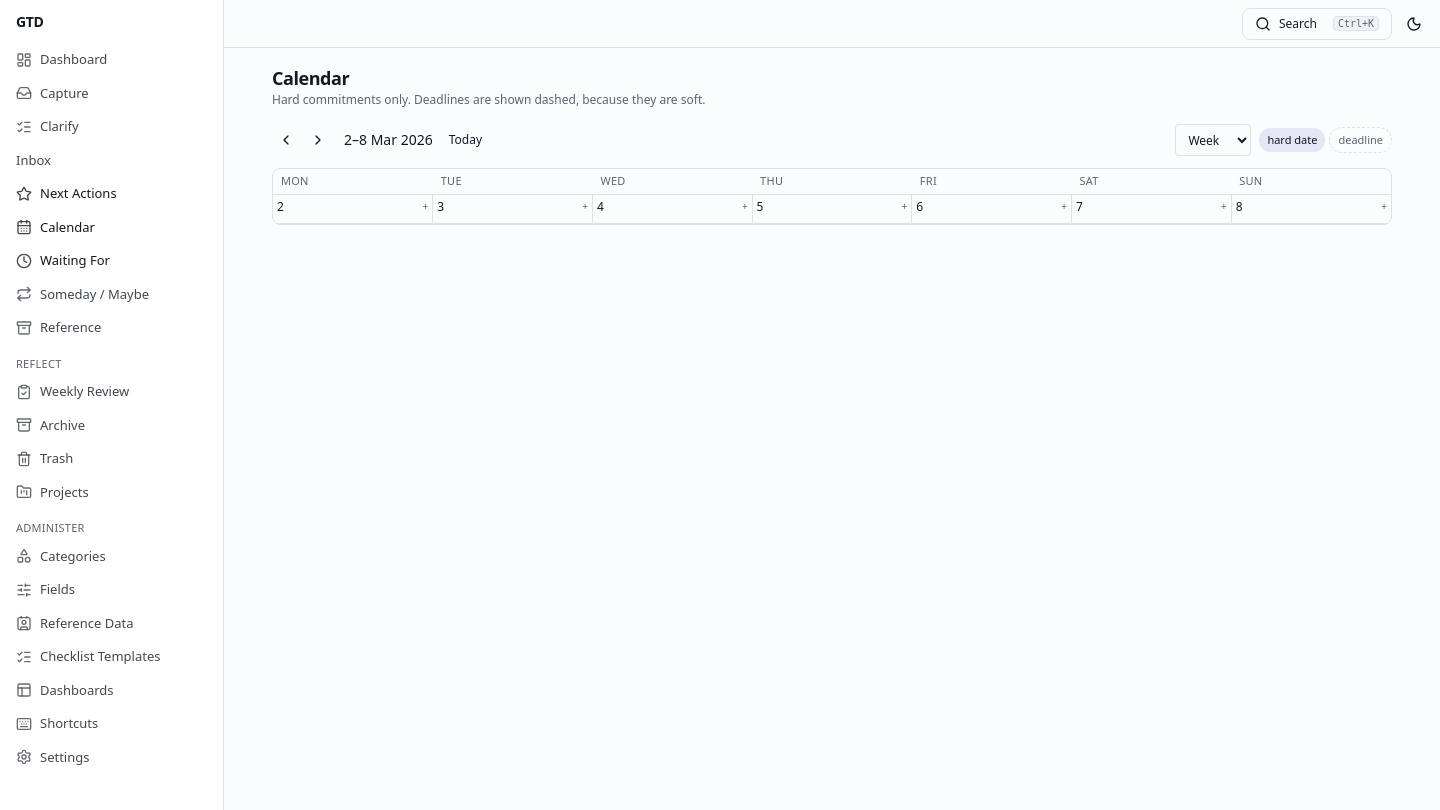
Scenario: the grid › switches to a month view
Step 1. Select "Month" in the dropdown named "Calendar view" → {"x": 1213, "y": 140}, box 1175,124 -> 1251,156
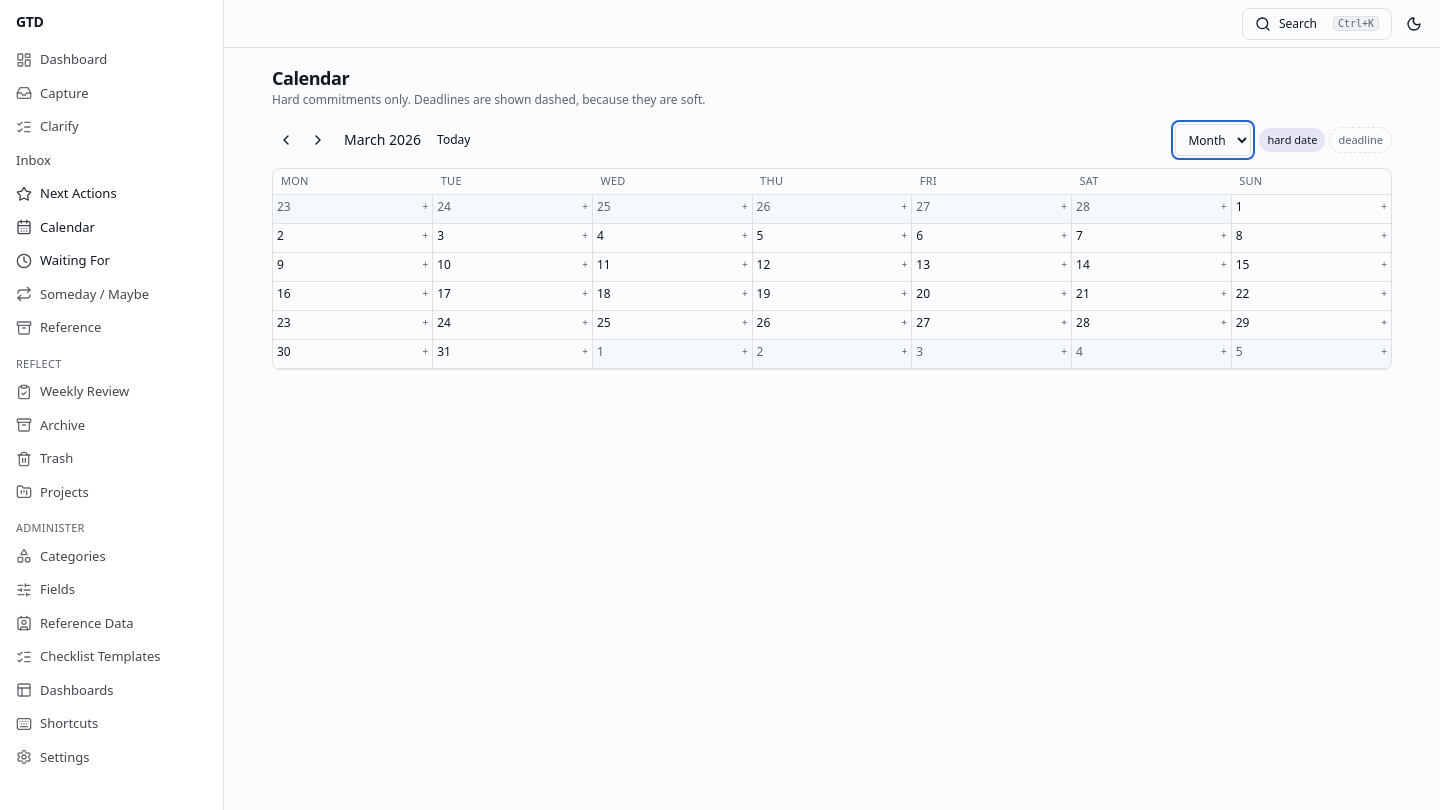
Result: the heading "March 2026" is shown at 344,130 -> 421,150
